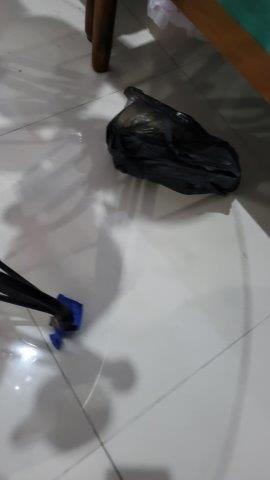plastik: (103, 85, 242, 200)
